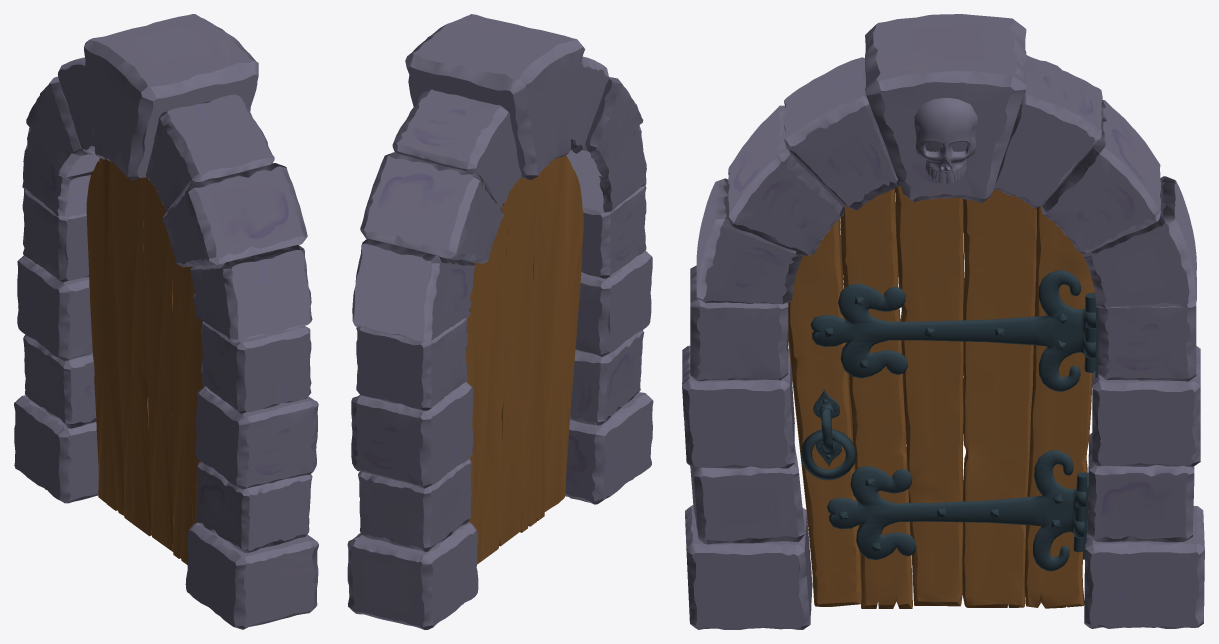
File: creepy_door.glb
3 views of the same model, side by side, from view 1: azimuth 30°, elevation 25°; view 2: azimuth 150°, elevation 25°; view 3: azimuth 270°, elevation 25° (orthographic). The views are drawn at different scales.
Parts seen in each view (by area): view 1: skull1; view 2: skull1; view 3: skull1.
Boxes of the visible parts, <box> form: skull1: <box>14,14,318,629</box>; skull1: <box>347,14,653,629</box>; skull1: <box>682,14,1204,629</box>.
Size of the model in its own units: 128 by 453 by 376.
Materials: 1 (1 with a texture image).
